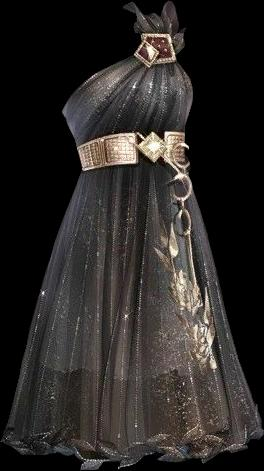Bodice: (62, 1, 192, 170)
Hemline: (0, 432, 263, 470)
Neckline: (58, 3, 145, 115)
Skirt: (1, 165, 263, 470)
Waistline: (78, 161, 189, 174)
